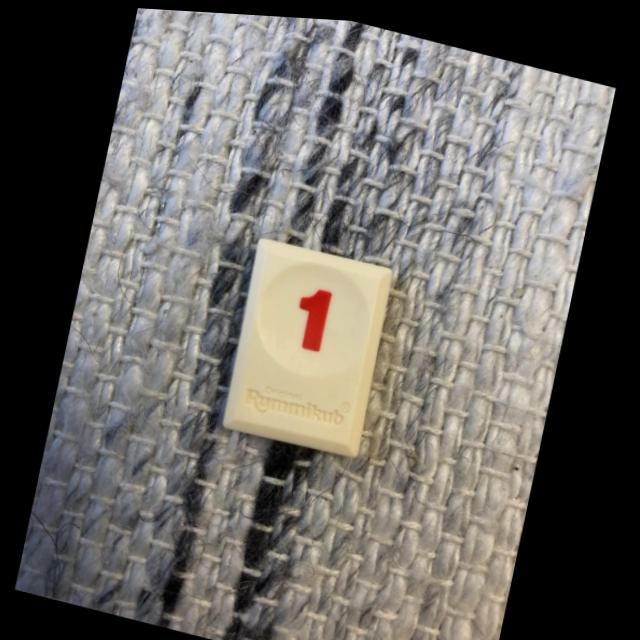red_1: (225, 235, 393, 452)
